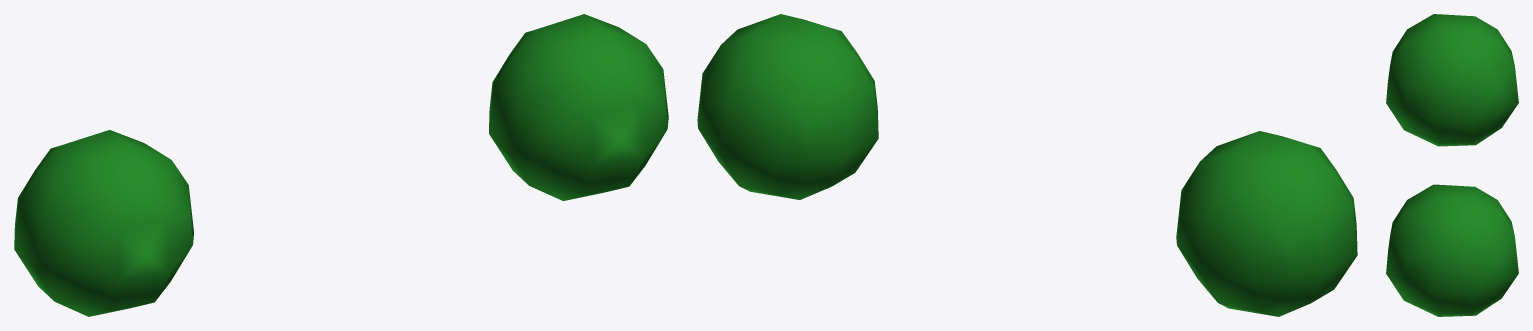
Rendered from Pupils_Green.fbx.
3 views of the same model, side by side, from view 1: azimuth 30°, elevation 25°; view 2: azimuth 150°, elevation 25°; view 3: azimuth 270°, elevation 25° (orthographic). The views are drawn at different scales.
Visible parts, largest first — view 1: Pupils_G; view 2: Pupils_G; view 3: Pupils_G.
Boxes of the visible parts, box(x1,y1,x2,y2) form: Pupils_G: box(14, 14, 668, 316); Pupils_G: box(697, 14, 1357, 316); Pupils_G: box(1386, 14, 1518, 316).
Bounding box in the file's own units: 0.208 × 0.8401 × 0.2069.
